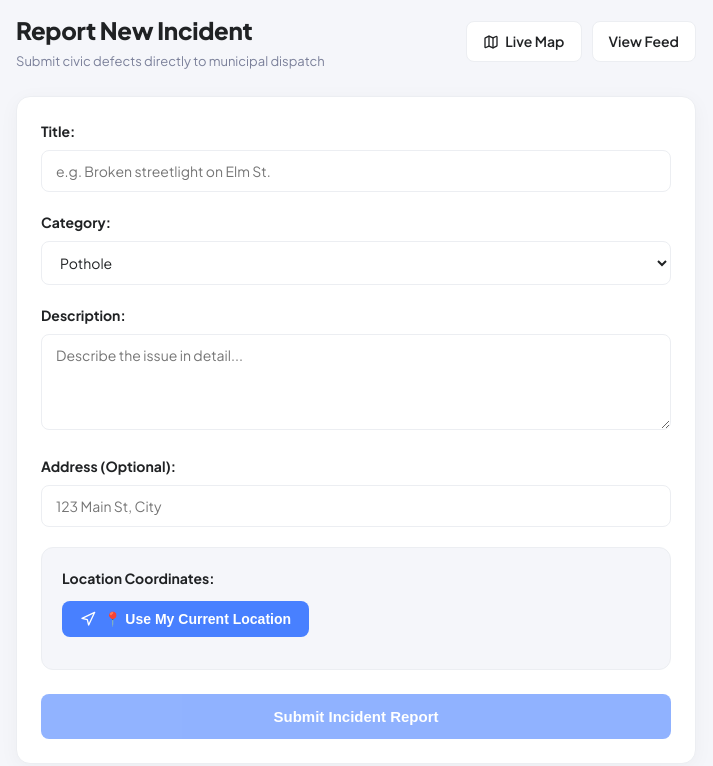
IncidentForm Component › disables submit button and prevents submission when coordinates are not acquired
Step 1. Type "Broken Pipe" into the field with placeholder "e.g. Broken streetlight on Elm St." → coordinates (356, 170), box [41,150,671,192]
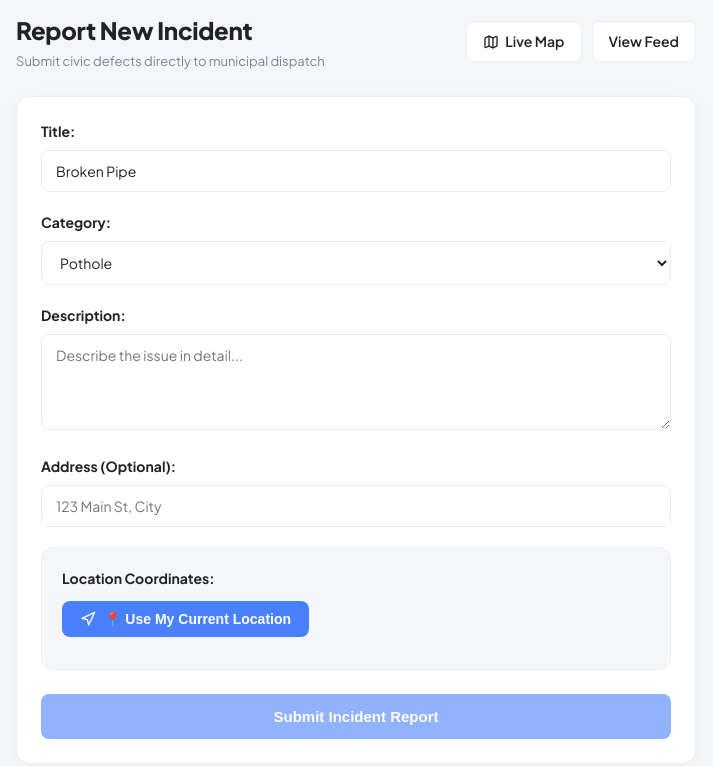
Step 2. Type "Water leaking all over the street" into the text box with placeholder "Describe the issue in detail..." → coordinates (356, 382), box [41,334,671,430]
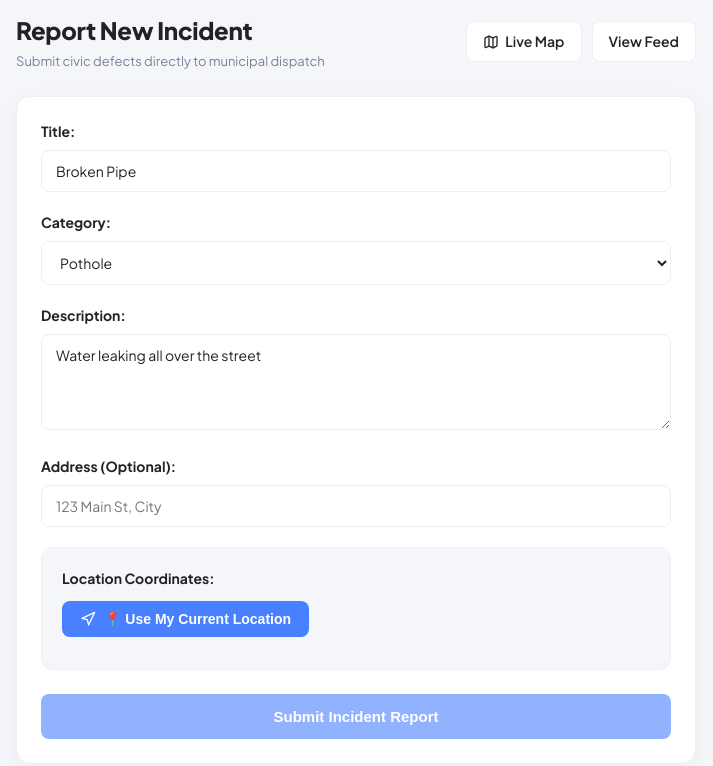
Expected: the button "Submit Incident Report" is disabled, [41,694,671,738]
# Trigger form submit directly to verify internal guard
Step 3. Submit the form named "submit incident report"
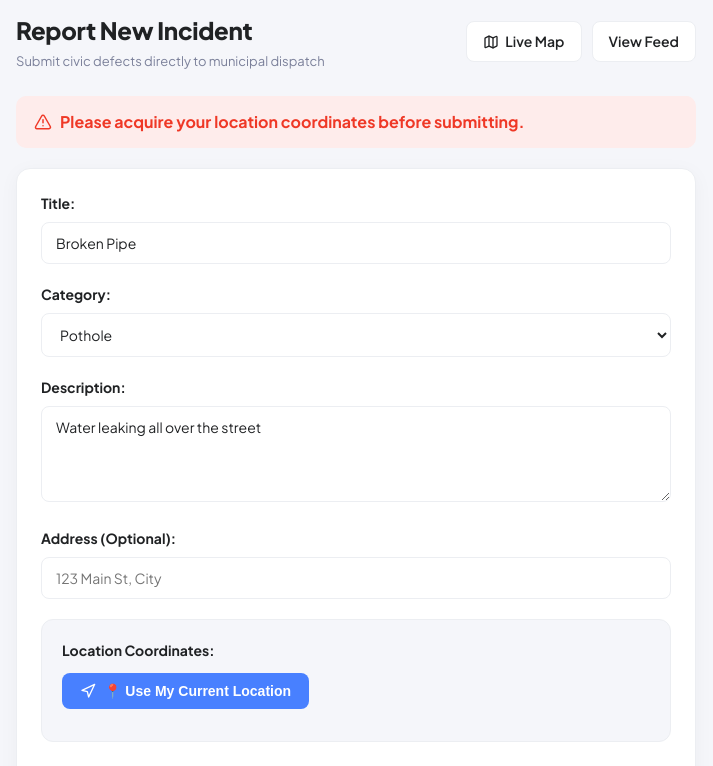
Result: the text "Please acquire your location coordinates before submitting." is shown at [16,96,696,148]
